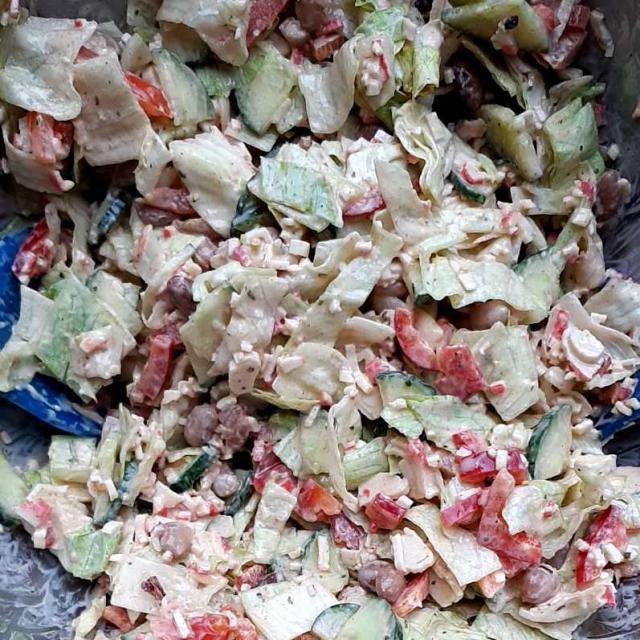salad-leaf-salad-green: (7, 20, 614, 618)
